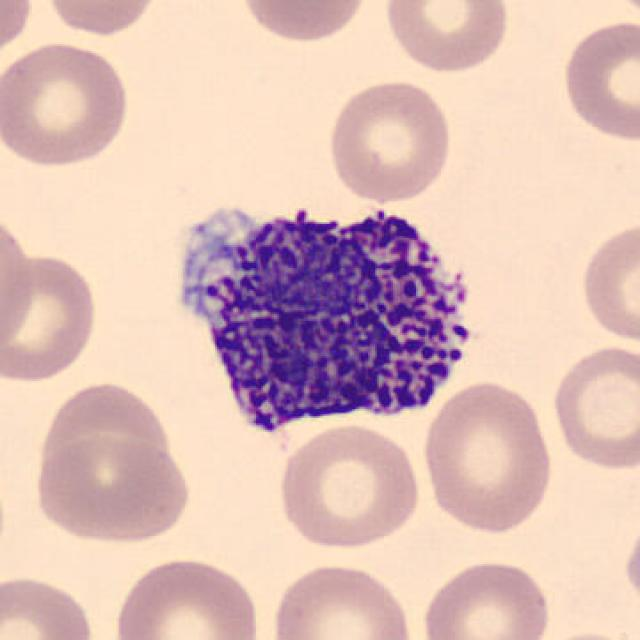Basophil: (158, 183, 492, 444)
RBC: (418, 376, 558, 536), (274, 419, 425, 552), (28, 432, 194, 547), (32, 376, 180, 502), (0, 37, 135, 171), (324, 76, 455, 206), (108, 552, 265, 640), (0, 250, 101, 386), (266, 559, 418, 640), (548, 340, 638, 474), (416, 555, 555, 640), (558, 14, 640, 145), (380, 0, 514, 76), (576, 215, 638, 347), (0, 569, 100, 640), (235, 0, 373, 46), (0, 202, 37, 356), (39, 0, 167, 37), (0, 1, 37, 63), (620, 510, 640, 620), (526, 627, 638, 640), (601, 0, 640, 23)
